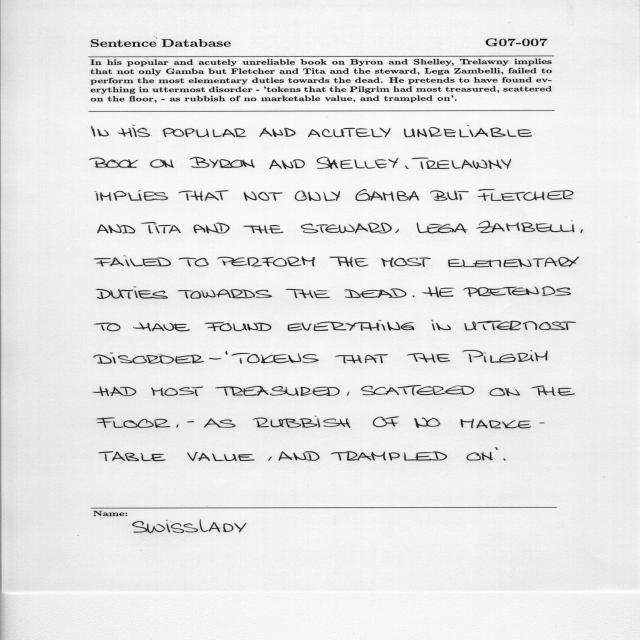word: (404, 125, 532, 137), (449, 257, 580, 268), (288, 320, 415, 331), (215, 386, 340, 396), (93, 353, 204, 364), (463, 286, 571, 297), (476, 221, 574, 233), (253, 416, 350, 428), (331, 451, 447, 461), (478, 189, 574, 201), (361, 386, 474, 396), (464, 321, 576, 331), (462, 350, 548, 363), (412, 158, 512, 169), (218, 256, 316, 267), (301, 223, 392, 234), (316, 157, 399, 169), (177, 289, 272, 299), (96, 286, 168, 299), (231, 353, 319, 363), (460, 419, 545, 429), (94, 256, 171, 267), (97, 417, 171, 428), (96, 190, 168, 201), (163, 128, 247, 137), (356, 189, 419, 201), (308, 128, 391, 137), (190, 157, 255, 168), (99, 451, 166, 461), (345, 288, 407, 298), (205, 322, 272, 331), (187, 452, 254, 461), (178, 190, 229, 201), (417, 223, 468, 234), (90, 157, 139, 168), (133, 323, 190, 332), (381, 257, 431, 267), (335, 355, 388, 364), (532, 385, 575, 396), (151, 387, 203, 396), (295, 191, 340, 201), (141, 222, 181, 233), (407, 353, 450, 363), (94, 386, 137, 396), (430, 190, 469, 201), (279, 451, 320, 461), (194, 223, 230, 234), (286, 289, 330, 298), (422, 286, 455, 298), (329, 257, 368, 267), (118, 125, 150, 137), (269, 159, 305, 169), (244, 192, 283, 201), (259, 128, 296, 137), (98, 225, 135, 234), (244, 225, 283, 233), (373, 416, 399, 427), (415, 417, 441, 428), (204, 419, 235, 428), (179, 258, 209, 267), (489, 388, 520, 396), (95, 323, 121, 332), (467, 452, 493, 461), (151, 159, 175, 168), (431, 320, 451, 330), (92, 126, 109, 137), (209, 358, 222, 360), (405, 165, 409, 169), (395, 229, 399, 233), (268, 457, 272, 461), (187, 421, 194, 423), (580, 230, 583, 234), (347, 392, 350, 396), (495, 447, 498, 450), (226, 351, 228, 355), (177, 424, 179, 428), (503, 459, 506, 461), (413, 296, 415, 298)
